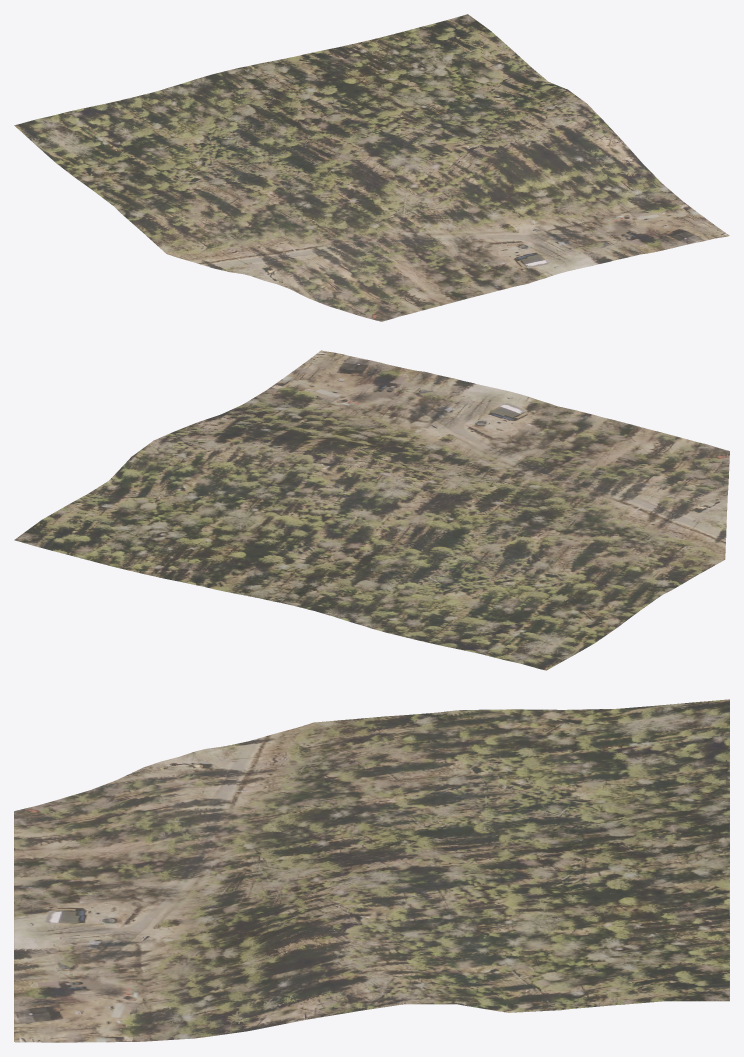
Rendered from CM_Terrain_24492097_6813855.fbx.
3 views of the same model, one above another, from view 1: azimuth 30°, elevation 25°; view 2: azimuth 150°, elevation 25°; view 3: azimuth 270°, elevation 25° (orthographic). The views are drawn at different scales.
Visible parts, largest first — view 1: CM_Terrain_24492097_6813855_LOD0; view 2: CM_Terrain_24492097_6813855_LOD0; view 3: CM_Terrain_24492097_6813855_LOD0.
Boxes of the visible parts, bbox=[...] form: CM_Terrain_24492097_6813855_LOD0: bbox=[14, 14, 729, 321]; CM_Terrain_24492097_6813855_LOD0: bbox=[14, 350, 729, 670]; CM_Terrain_24492097_6813855_LOD0: bbox=[14, 699, 729, 1042].
Size of what is drawn, in the model's own units: 205 by 14.27 by 205.
